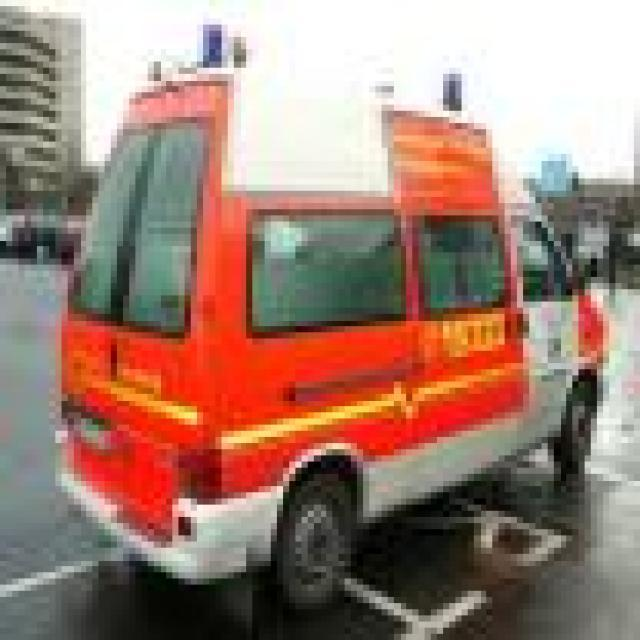emergency-vehicle: (58, 40, 612, 606)
